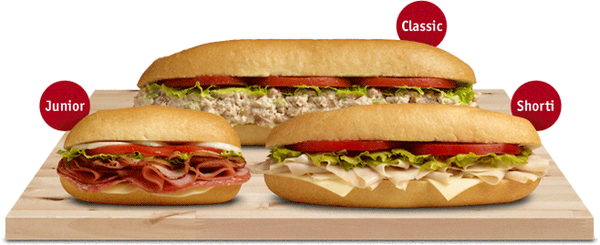soup: (265, 103, 548, 208), (55, 105, 251, 206)
